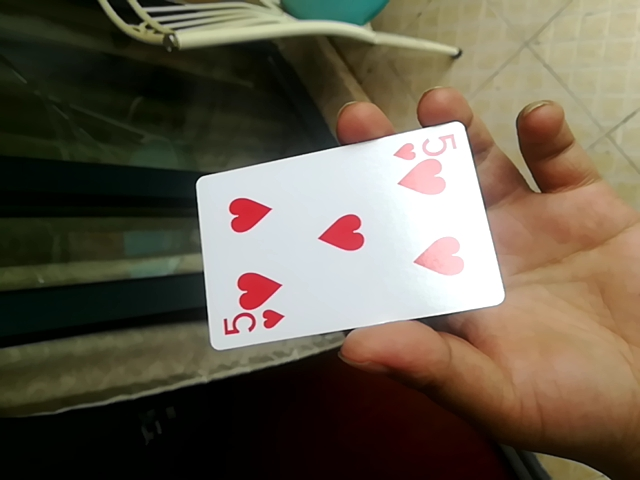hx 5: (192, 120, 504, 352)
